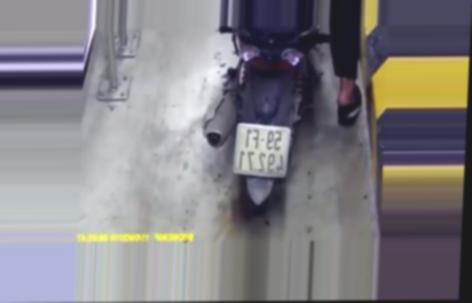License_Plate: (225, 122, 299, 179)
